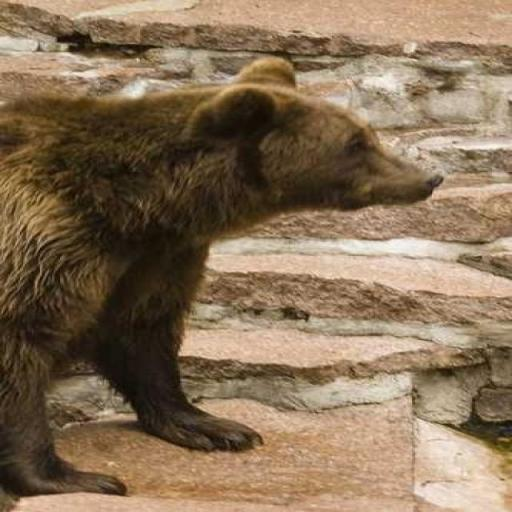Bear: (0, 56, 444, 510)
